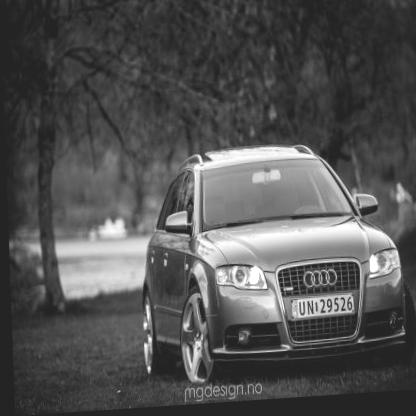License_Plate: (290, 290, 356, 321)
